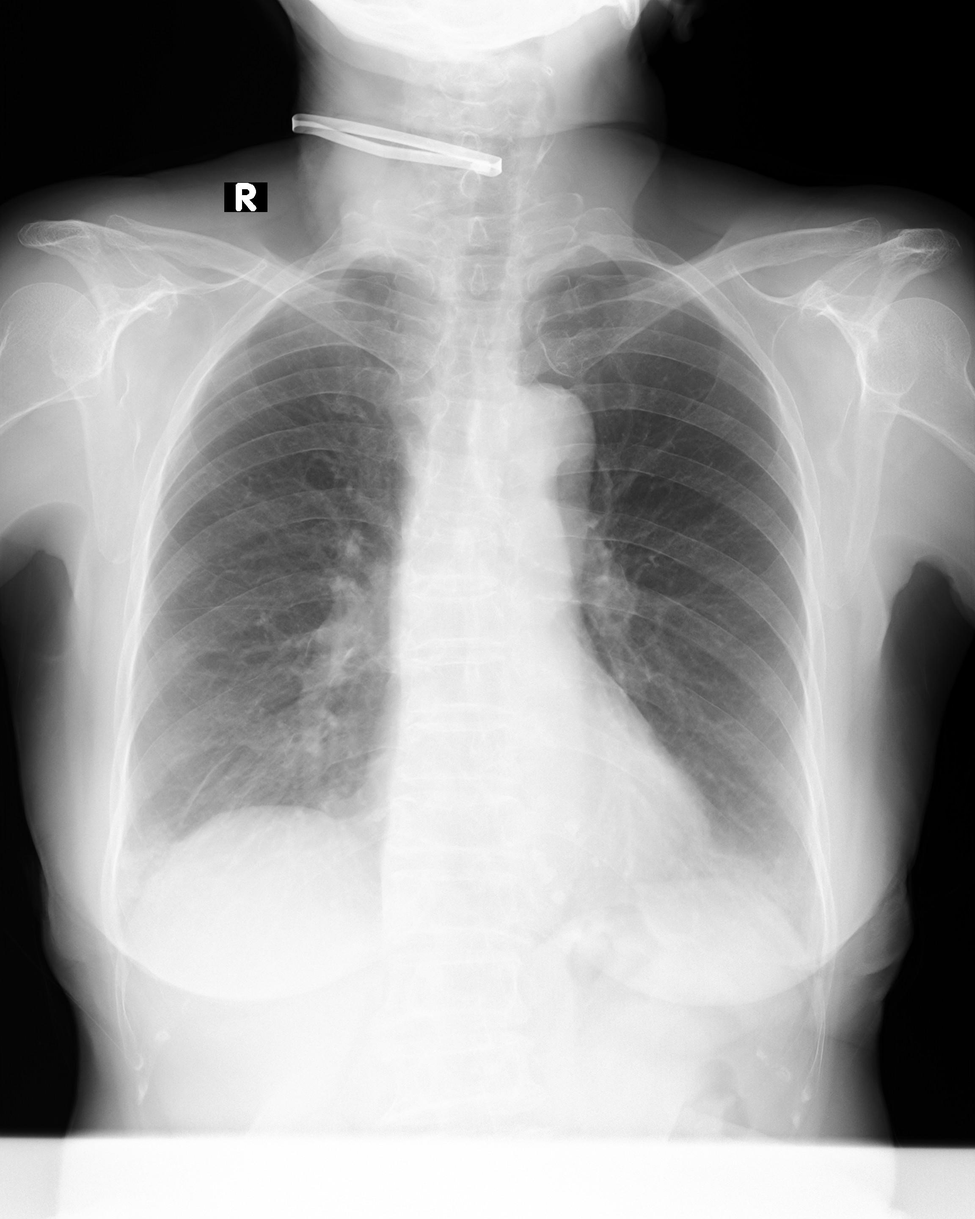Aortic enlargement: (486, 386, 592, 494)
